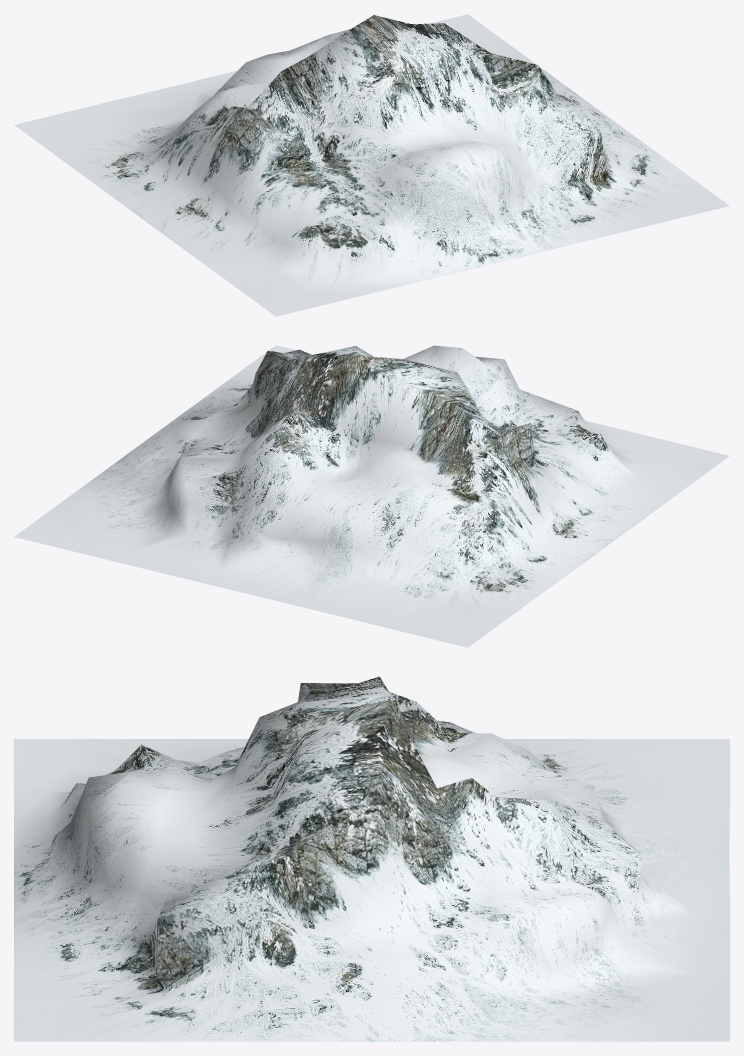
File: QuantumCold_AA.FBX
3 views of the same model, one above another, from view 1: azimuth 30°, elevation 25°; view 2: azimuth 150°, elevation 25°; view 3: azimuth 270°, elevation 25° (orthographic). The views are drawn at different scales.
Visible parts, largest first — view 1: QuantumCold_AA; view 2: QuantumCold_AA; view 3: QuantumCold_AA.
Part boxes in pixels (<box>): QuantumCold_AA: <box>14,14,729,316</box>; QuantumCold_AA: <box>14,345,729,647</box>; QuantumCold_AA: <box>14,676,729,1041</box>.
Size of the model in its own units: 11015 by 3328 by 11015.
